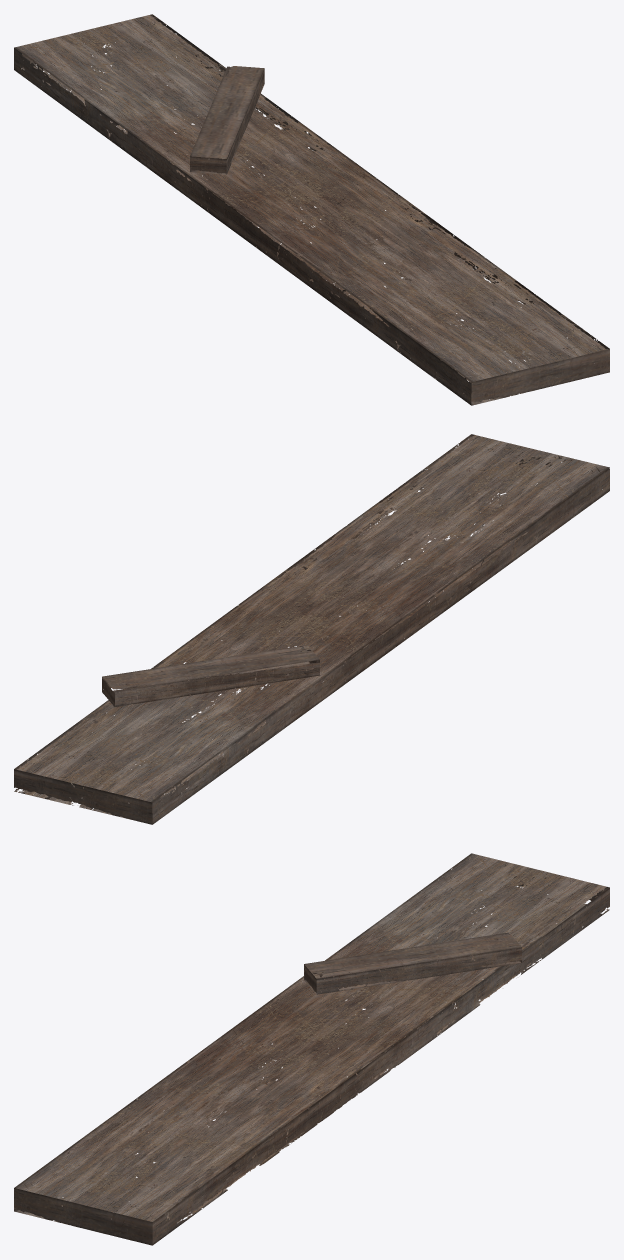
The model's file is SM_wood_boards_02.fbx.
The picture shows the model from 3 angles, top to bottom: view 1: azimuth 30°, elevation 25°; view 2: azimuth 150°, elevation 25°; view 3: azimuth 330°, elevation 25°; orthographic projection.
Visible parts, largest first — view 1: SM_wood_boards_02_LOD0; view 2: SM_wood_boards_02_LOD0; view 3: SM_wood_boards_02_LOD0.
Boxes of the visible parts, <box> form: SM_wood_boards_02_LOD0: <box>14,14,609,405</box>; SM_wood_boards_02_LOD0: <box>14,434,609,824</box>; SM_wood_boards_02_LOD0: <box>14,853,609,1245</box>.
Size of the model in its own units: 28.48 by 150 by 7.18.
1 material, 1 textured.
